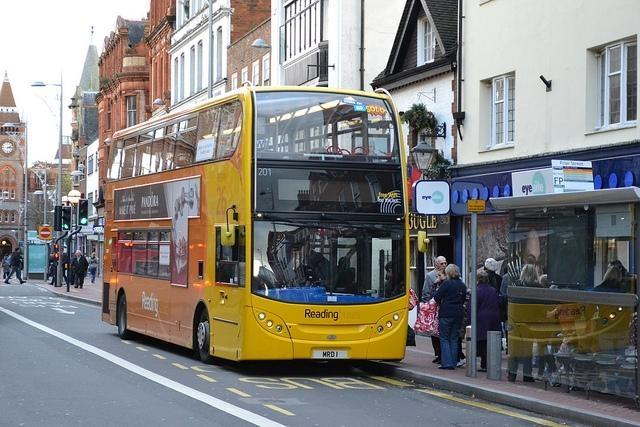bus: (99, 86, 410, 364)
